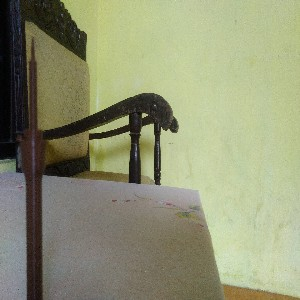solder: (18, 35, 48, 300)
